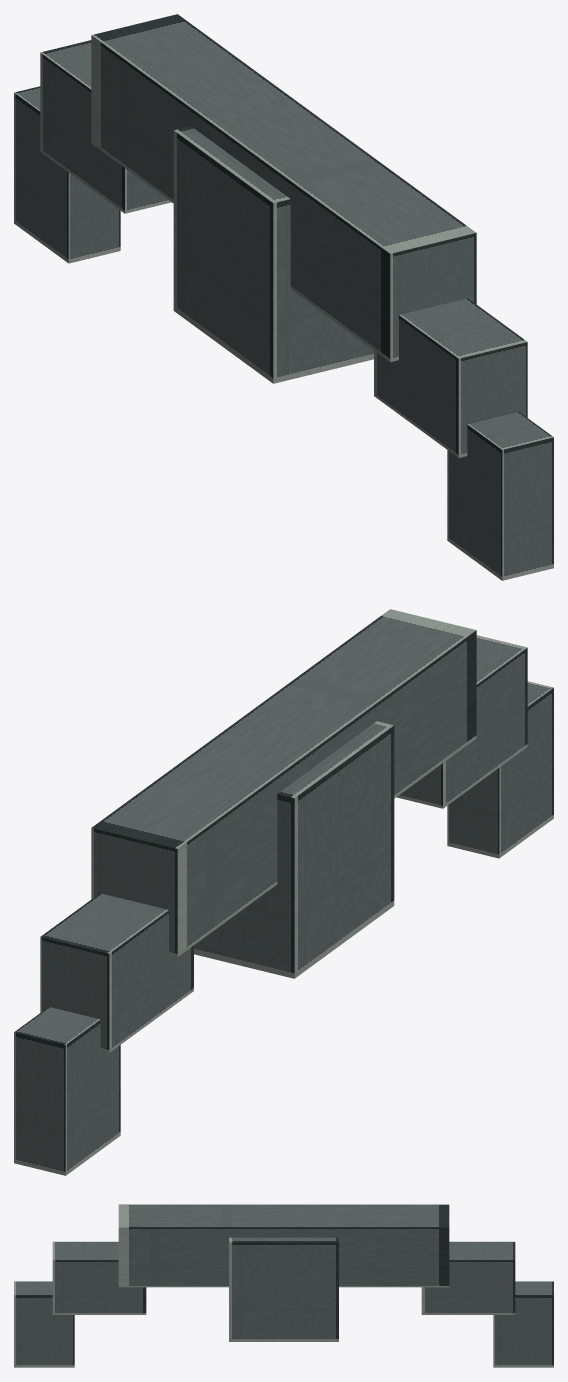
The model's file is workpiece_forged_pickaxe_shaped.obj.
3 views of the same model, one above another, from view 1: azimuth 30°, elevation 25°; view 2: azimuth 150°, elevation 25°; view 3: azimuth 270°, elevation 25° (orthographic). The views are drawn at different scales.
Visible parts, largest first — view 1: geometry; view 2: geometry; view 3: geometry.
Part boxes in pixels (x1=…): geometry: x1=14, y1=14, x2=553, y2=580; geometry: x1=14, y1=609, x2=553, y2=1175; geometry: x1=14, y1=1204, x2=553, y2=1367.
Size of the model in its own units: 0.175 by 0.3625 by 1.22.
